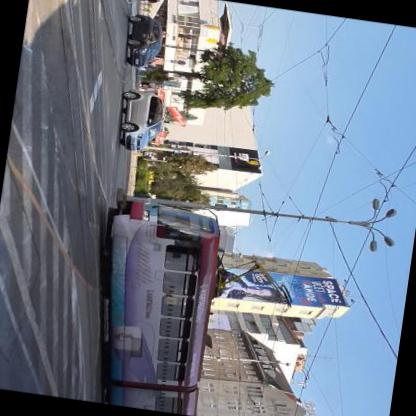people: (134, 0, 161, 9)
vehicle: (83, 192, 222, 414), (112, 82, 171, 154), (124, 14, 163, 72)
